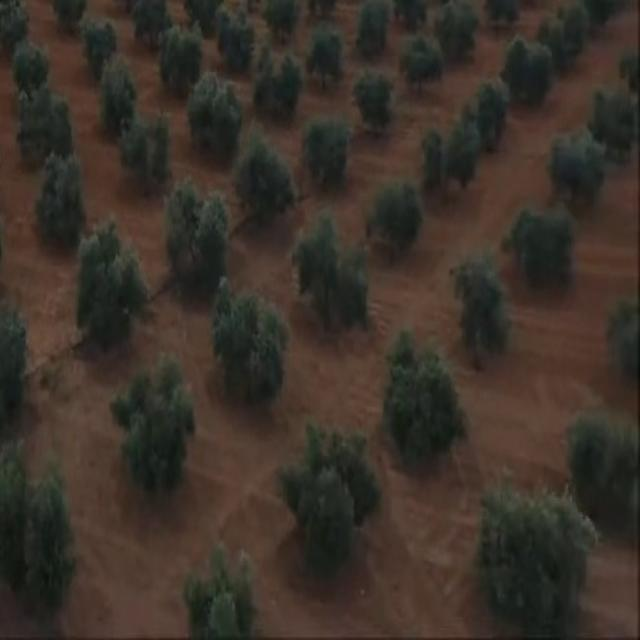trees: (481, 479, 601, 619), (282, 405, 380, 561), (0, 443, 71, 594), (382, 330, 462, 464), (291, 210, 376, 332), (208, 274, 290, 396), (70, 216, 156, 324), (127, 351, 199, 464), (567, 408, 640, 510), (170, 170, 236, 281), (451, 253, 514, 359), (418, 112, 483, 201), (30, 149, 86, 247), (509, 200, 574, 282), (17, 86, 80, 170), (237, 132, 291, 229), (121, 103, 181, 187), (588, 74, 640, 156), (250, 45, 304, 123), (551, 123, 607, 196), (374, 174, 423, 257), (156, 15, 206, 96), (306, 106, 354, 190), (189, 69, 234, 155), (90, 61, 140, 134), (502, 35, 552, 105), (467, 76, 517, 145), (434, 2, 486, 67), (541, 0, 591, 63), (305, 15, 346, 91), (351, 69, 396, 131), (214, 3, 255, 69), (397, 37, 444, 93), (351, 0, 398, 56), (81, 20, 124, 76), (10, 41, 49, 99), (128, 0, 166, 52)
